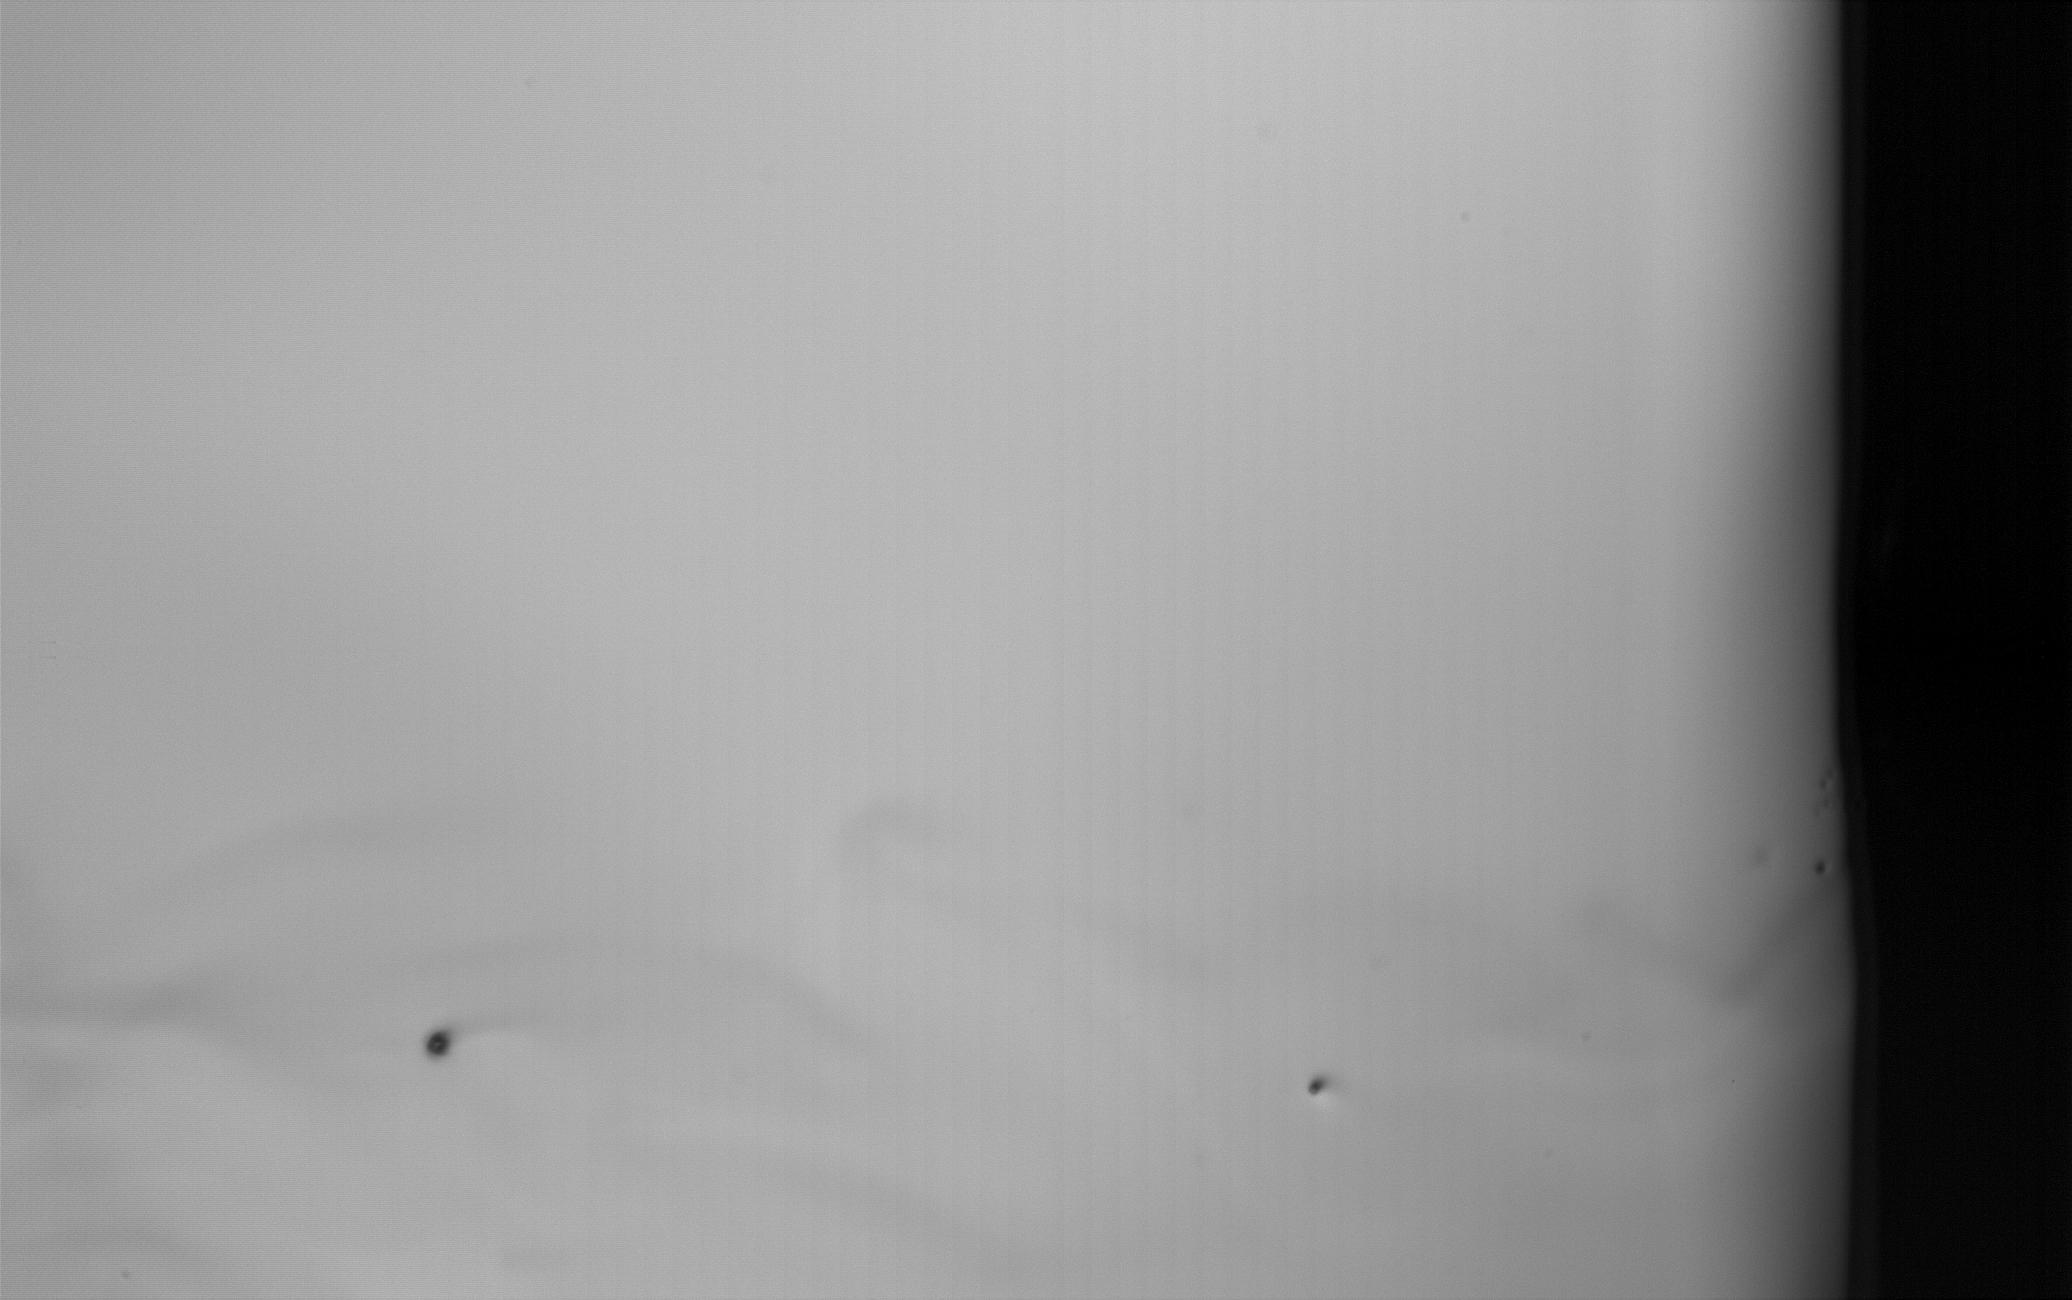Blurry: (1740, 834, 1776, 876)
ClassicalEvaporation: (415, 1021, 463, 1066), (1307, 1072, 1335, 1101), (1812, 855, 1831, 876)
